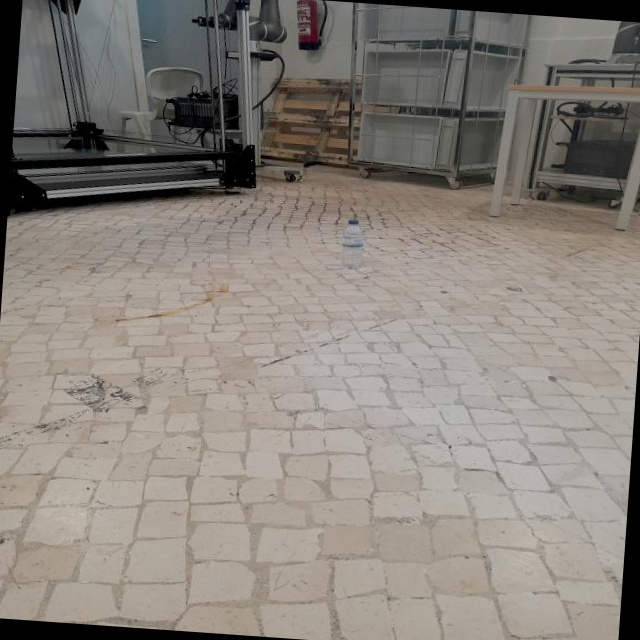Plastic-bottle: (328, 210, 368, 274)
